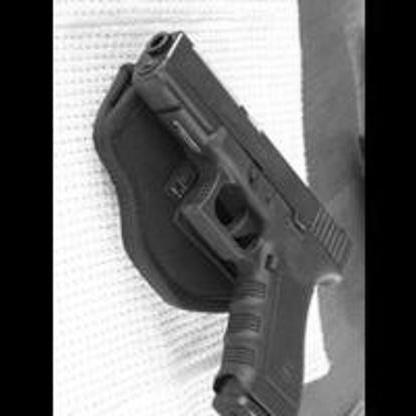weapon: (127, 26, 359, 416)
